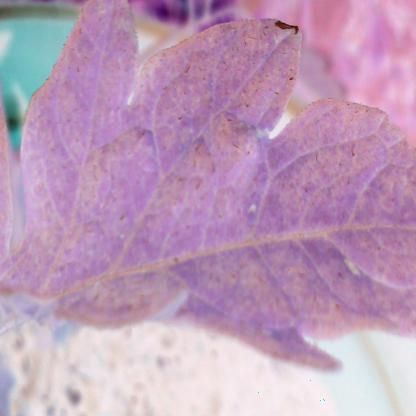Tomato mold leaf: (15, 7, 416, 392)
